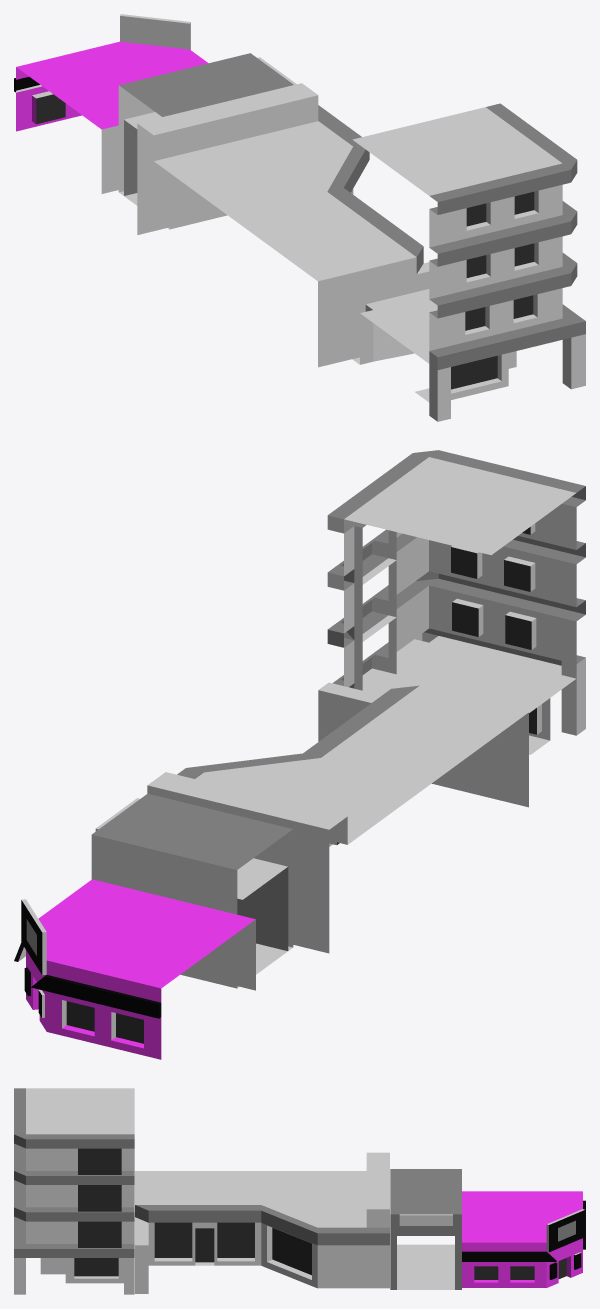
Rendered from Cuadra-1-Izquierda.fbx.
3 views of the same model, one above another, from view 1: azimuth 30°, elevation 25°; view 2: azimuth 150°, elevation 25°; view 3: azimuth 270°, elevation 25° (orthographic). The views are drawn at different scales.
Parts seen in each view (by area): view 1: Plane4; view 2: Plane4; view 3: Plane4.
Boxes of the visible parts, <box> form: Plane4: <box>14,14,585,421</box>; Plane4: <box>14,450,585,1059</box>; Plane4: <box>14,1088,585,1294</box>.
Size of the model in its own units: 2215 by 2578 by 8522.
